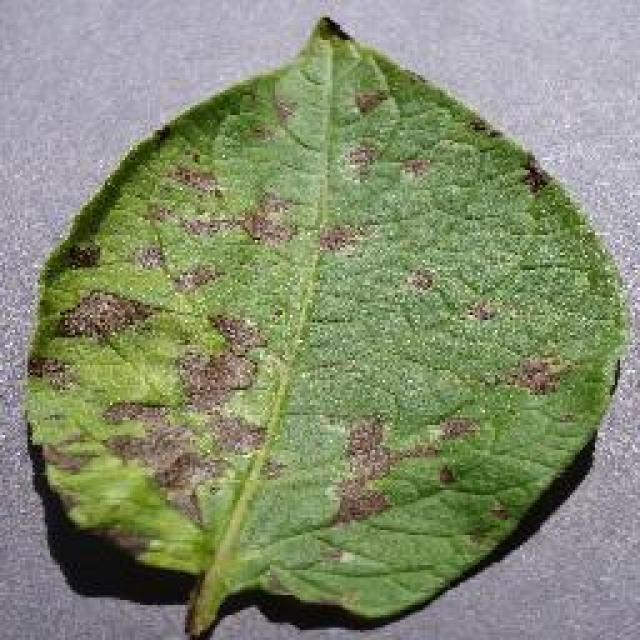green waste: (7, 2, 624, 640)
